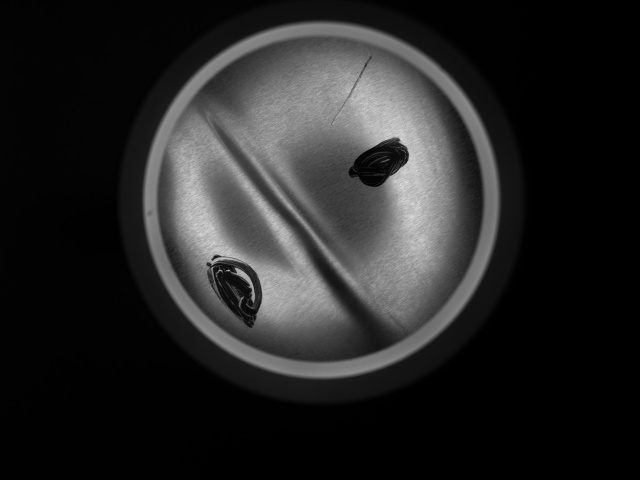ca_shang: (329, 52, 376, 127)
zang_wu: (203, 251, 267, 330), (344, 135, 410, 189)
zhe_zhou: (204, 66, 431, 338)
